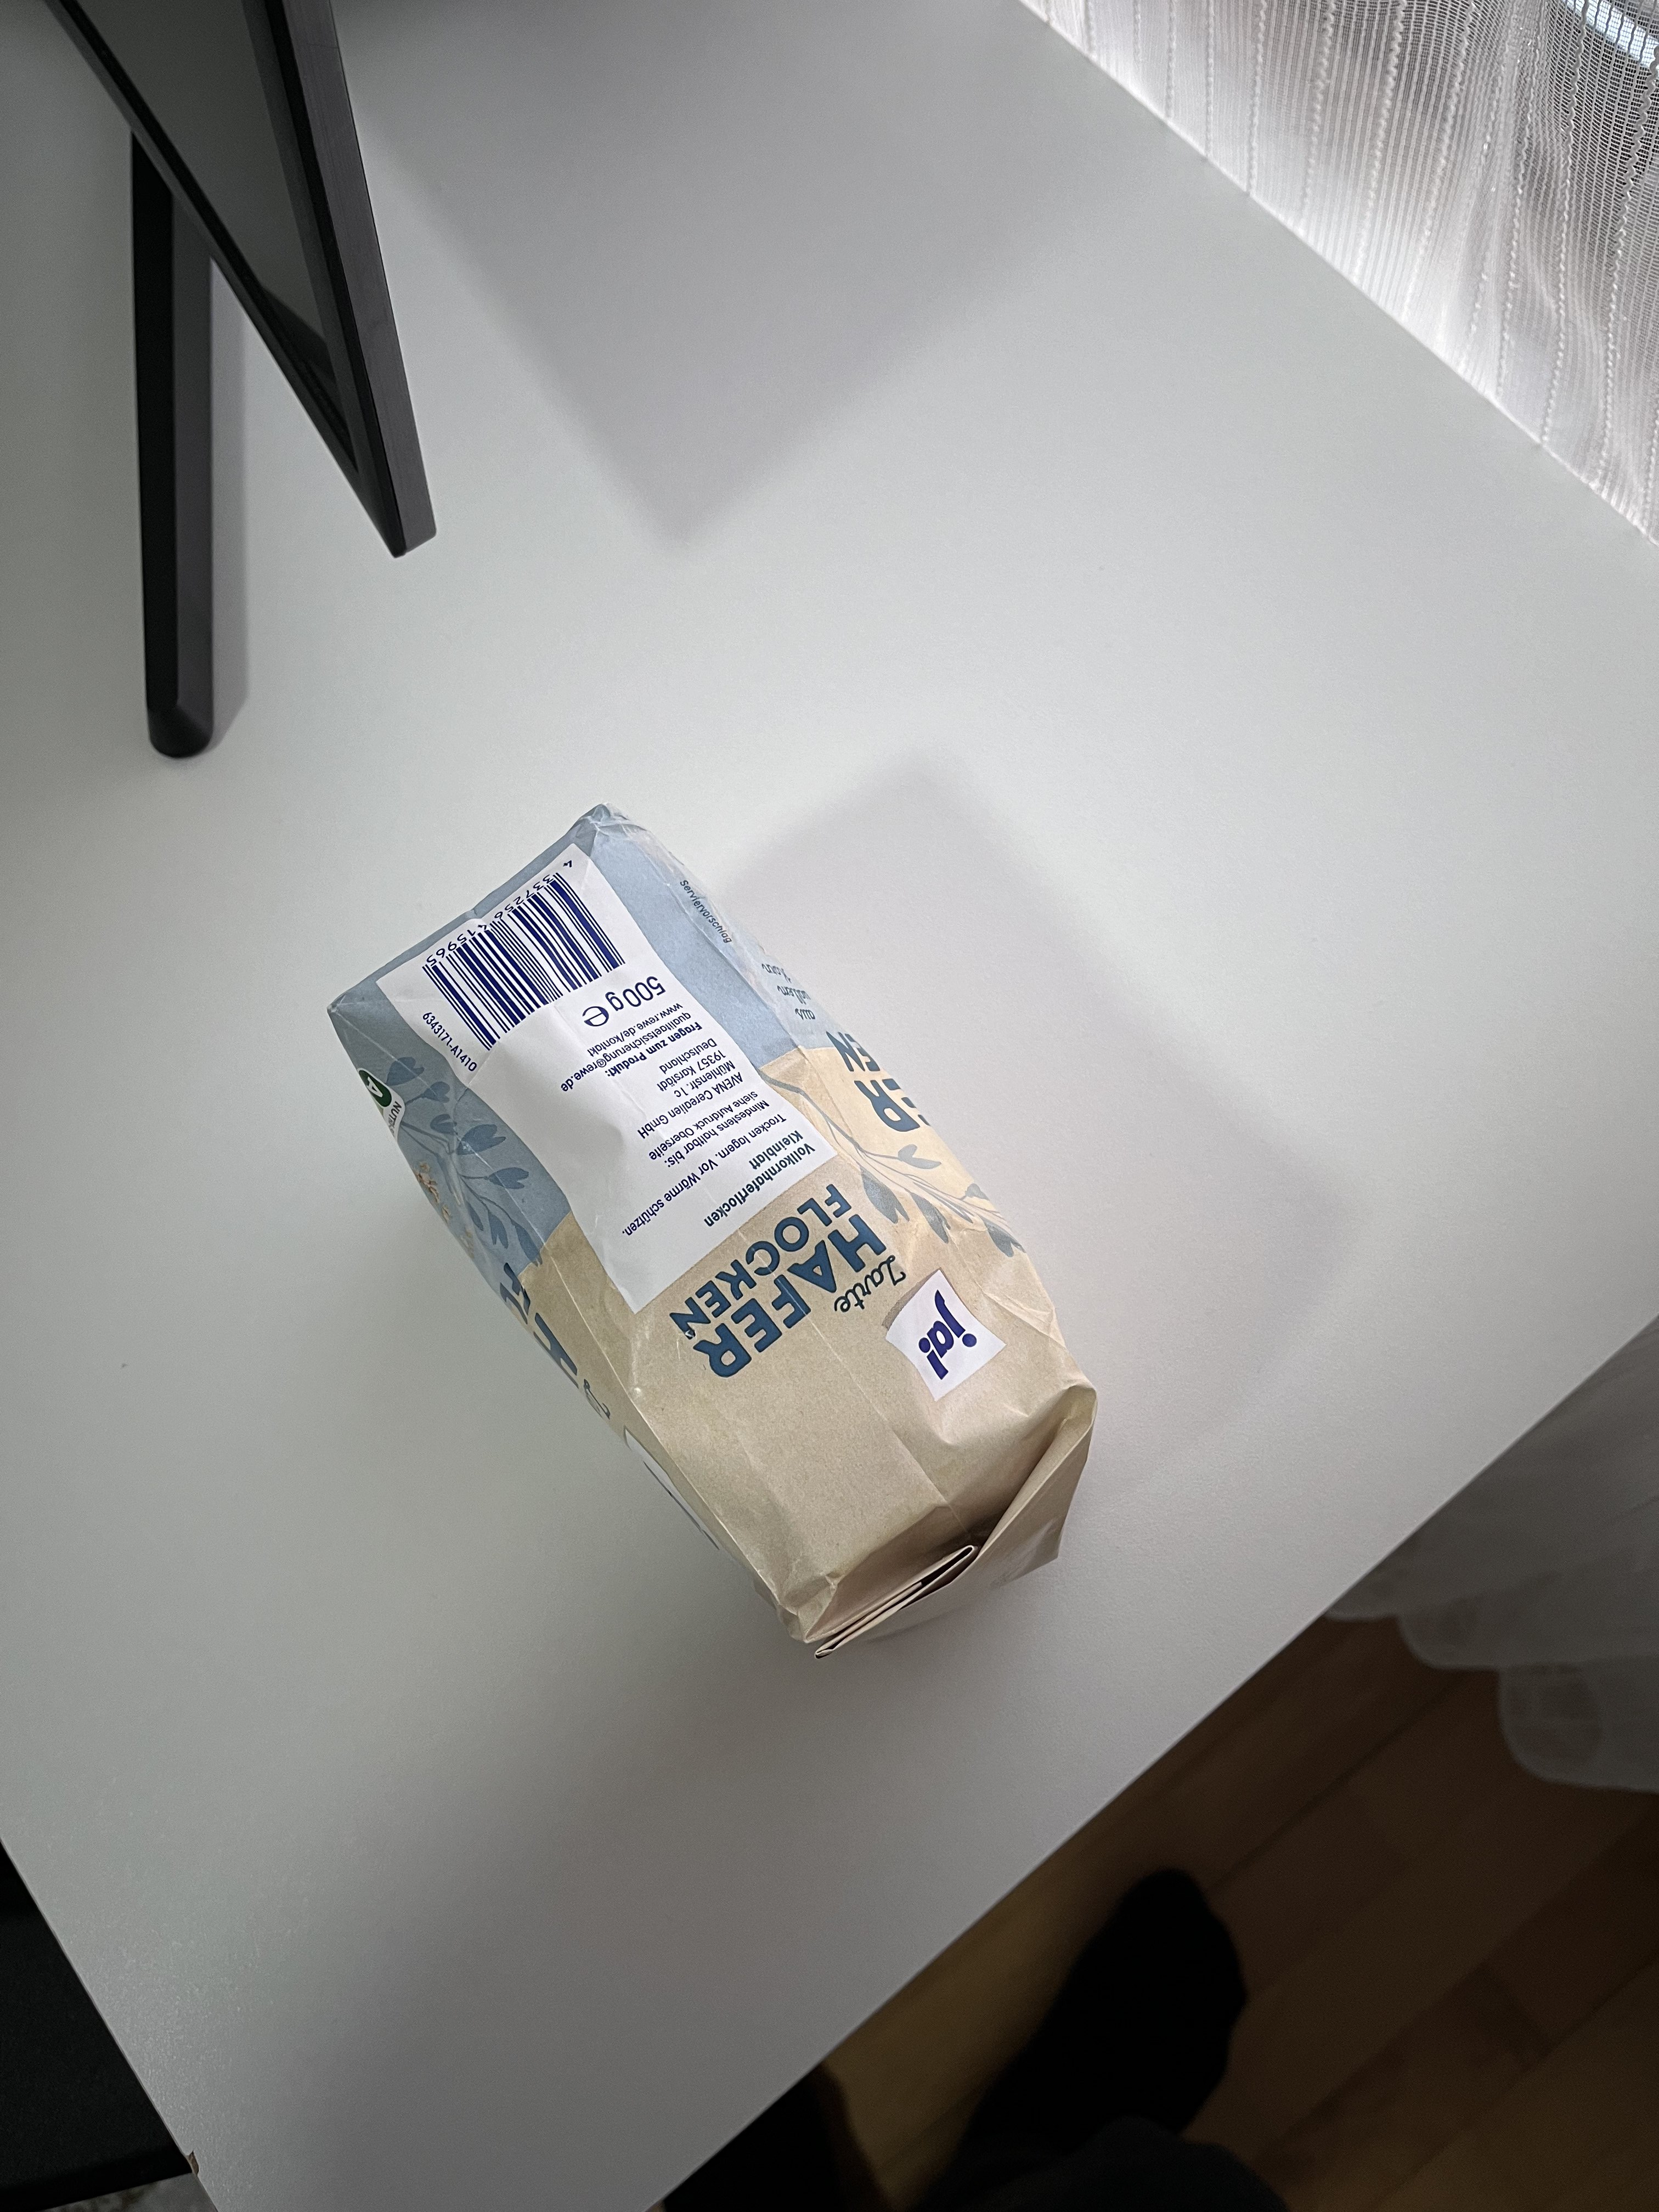haferflocken_ja: (324, 808, 1098, 1658)
